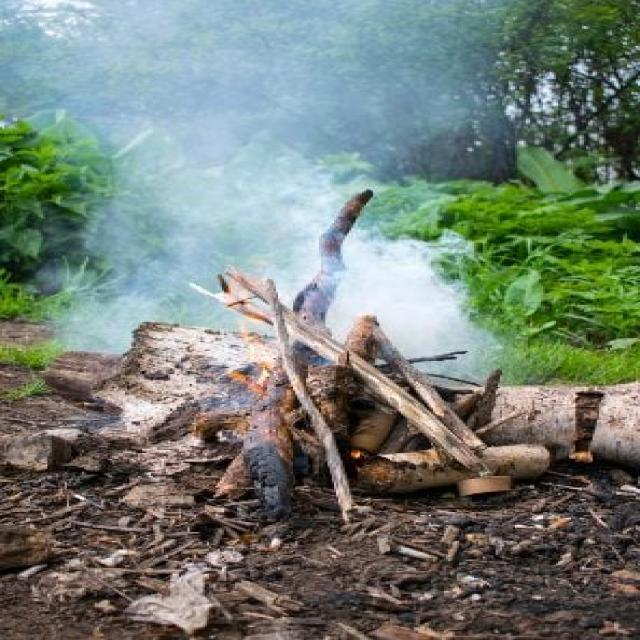Smoke: (0, 0, 526, 408)
